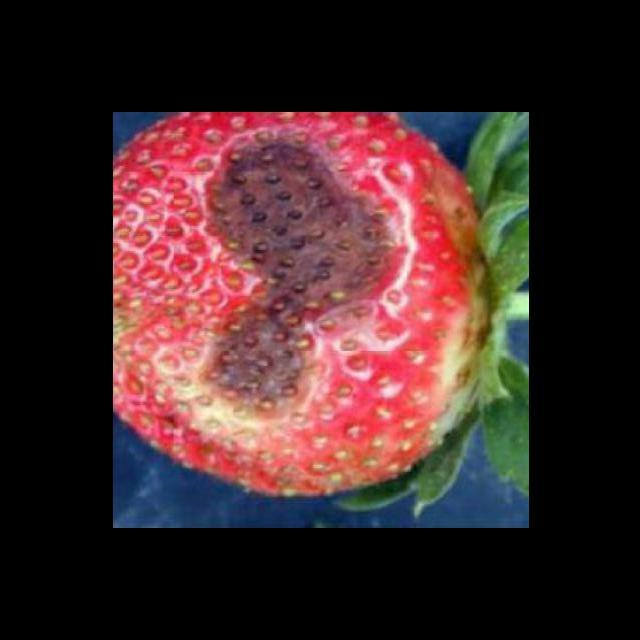Anthracnose Fruit Rot: (199, 132, 402, 430)
